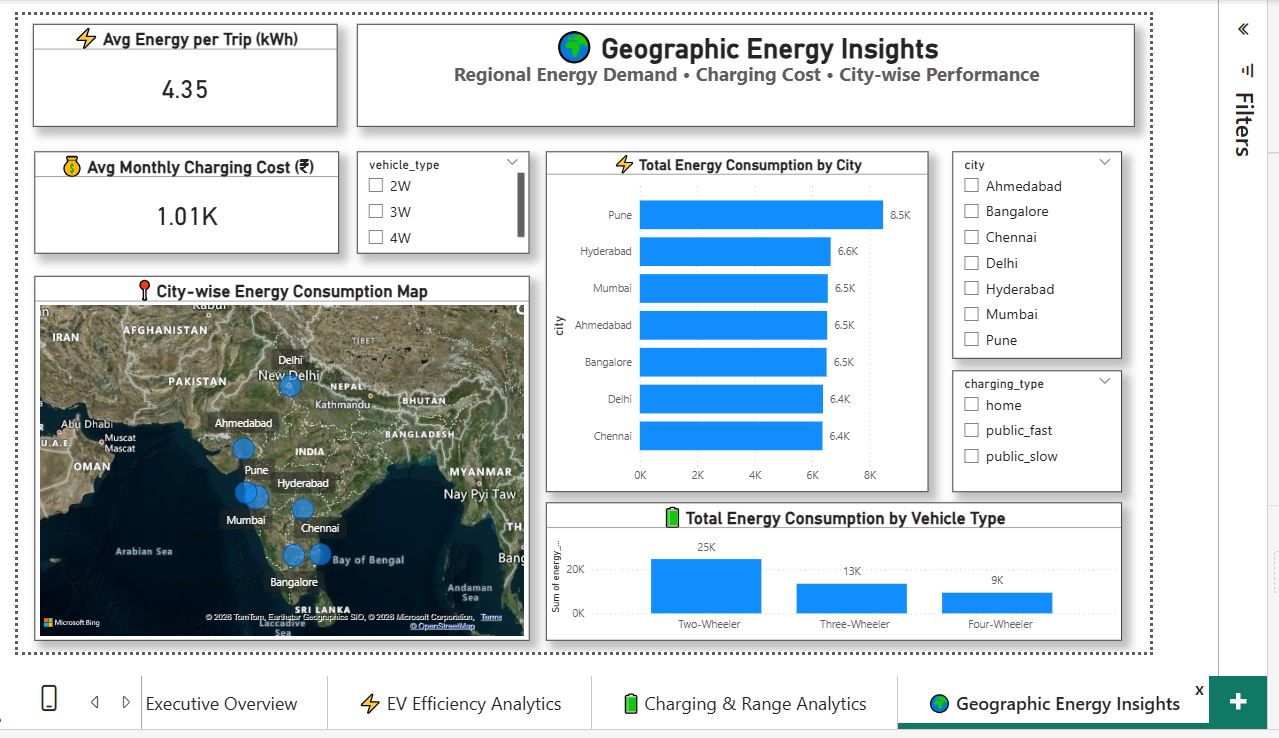

The page's visual inventory and layout, read from the dashboard file:
{"tool":"powerbi","page":{"name":"🌍 Geographic Energy Insights","canvas":[1280,720],"ordinal":3},"visuals":[{"type":"slicer","fields":{"Values":["ev_final_dashboard_dataset.vehicle_type"]},"box":[9.8,0,177.3,115.5],"z":0},{"type":"slicer","fields":{"Values":["ev_final_dashboard_dataset.city"]},"box":[187.1,0,191.9,115.5],"z":1000},{"type":"slicer","fields":{"Values":["ev_final_dashboard_dataset.charging_type"]},"box":[395.3,0,177.3,135],"z":2000},{"type":"slicer","fields":{"Values":["ev_final_dashboard_dataset.weather_condition"]},"box":[549.8,0,177.3,149.6],"z":3000},{"type":"slicer","fields":{"Values":["ev_final_dashboard_dataset.efficiency_category"]},"box":[727.1,0,177.3,149.6],"z":4000},{"type":"slicer","fields":{"Values":["ev_final_dashboard_dataset.Range Anxiety Label"]},"box":[904.4,0,193.6,135],"z":5000},{"type":"map","fields":{"Category":["ev_final_dashboard_dataset.city"],"Size":["Avg(ev_final_dashboard_dataset.energy_consumed_kwh)"]},"box":[9.8,232.6,489.6,409.9],"z":6000},{"type":"filledMap","fields":{"Category":["ev_final_dashboard_dataset.city"]},"box":[549.8,232.6,611.6,409.9],"z":7000}]}

Visuals, with their boxes on the page's 1280x720 design canvas (x1, y1, x2, y2). These are canvas units, not pixel positions in the 1279x738 screenshot, which may show the page scaled, cropped or inside an application window:
slicer - ev_final_dashboard_dataset.vehicle_type: (10,0,187,116)
slicer - ev_final_dashboard_dataset.city: (187,0,379,116)
slicer - ev_final_dashboard_dataset.charging_type: (395,0,573,135)
slicer - ev_final_dashboard_dataset.weather_condition: (550,0,727,150)
slicer - ev_final_dashboard_dataset.efficiency_category: (727,0,904,150)
slicer - ev_final_dashboard_dataset.Range Anxiety Label: (904,0,1098,135)
map - ev_final_dashboard_dataset.city x Avg(ev_final_dashboard_dataset.energy_consumed_kwh): (10,233,499,642)
filledMap - ev_final_dashboard_dataset.city: (550,233,1161,642)
